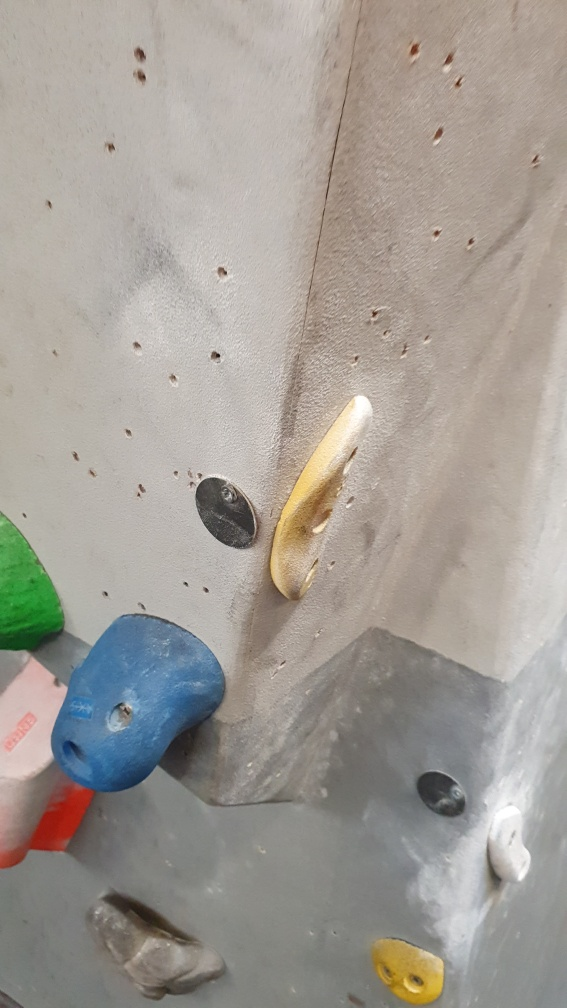Hand Start: (192, 469, 261, 554), (415, 764, 469, 823)
Jug: (85, 891, 238, 1003)
